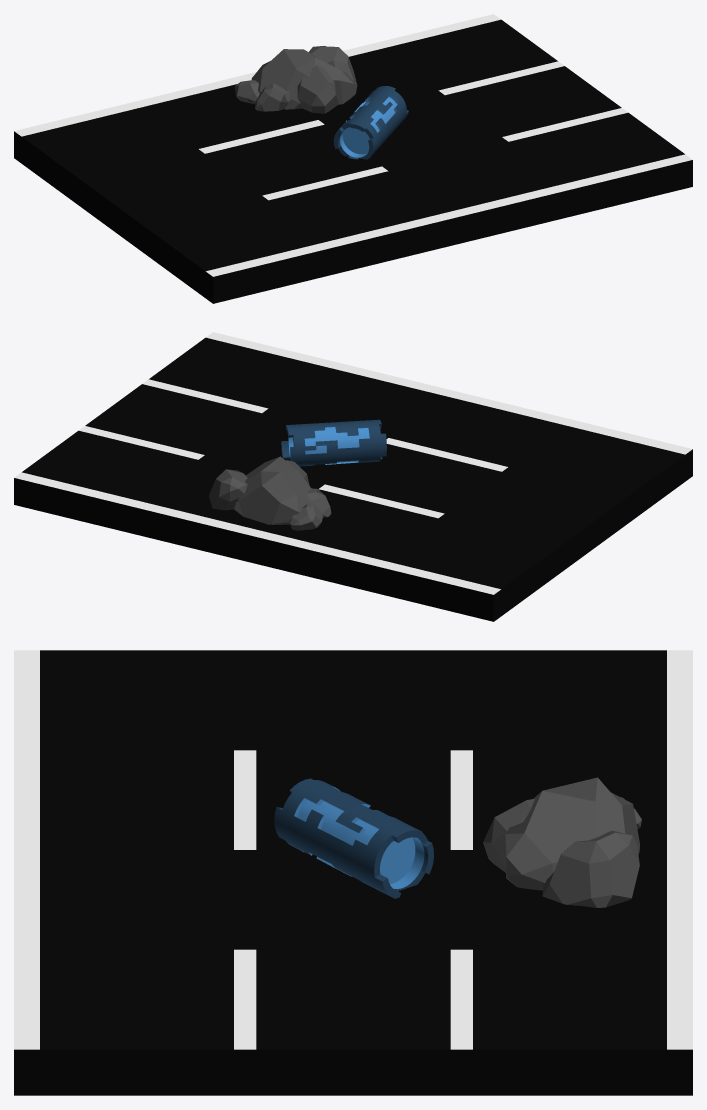
The model's file is Route Rochet V3 Tronc V2.fbx.
3 views of the same model, one above another, from view 1: azimuth 30°, elevation 25°; view 2: azimuth 150°, elevation 25°; view 3: azimuth 270°, elevation 25° (orthographic). The views are drawn at different scales.
Visible parts, largest first — view 1: Route Rochet V3 Tronc V2; view 2: Route Rochet V3 Tronc V2; view 3: Route Rochet V3 Tronc V2.
Boxes of the visible parts, box(x1,y1,x2,y2) form: Route Rochet V3 Tronc V2: box(14, 14, 692, 303); Route Rochet V3 Tronc V2: box(14, 332, 692, 621); Route Rochet V3 Tronc V2: box(14, 650, 692, 1095).
Bounding box in the file's own units: 501 × 70.31 × 360.
